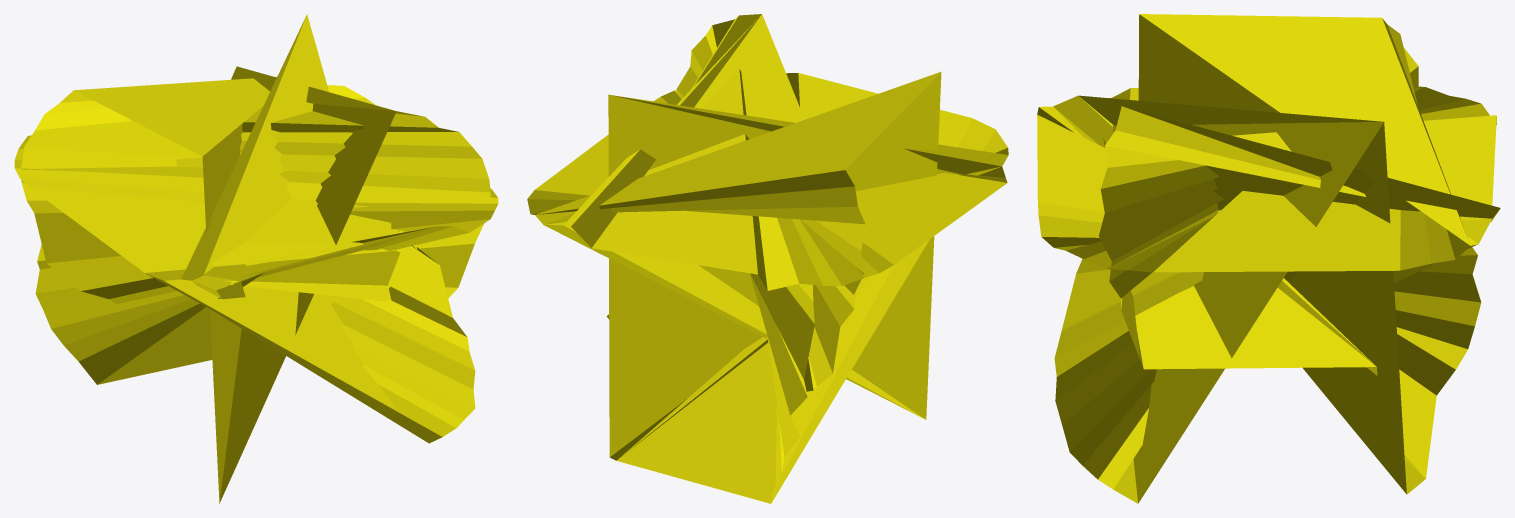
Rendered from Player_6.fbx.
The picture shows the model from 3 angles, left to right: view 1: azimuth 30°, elevation 25°; view 2: azimuth 150°, elevation 25°; view 3: azimuth 270°, elevation 25°; orthographic projection. The views are drawn at different scales.
Visible parts, largest first — view 1: Cylinder; view 2: Cylinder; view 3: Cylinder.
Part boxes in pixels (x1,y1,x2,y2): Cylinder: (14,14,498,503); Cylinder: (527,14,1008,503); Cylinder: (1037,14,1500,503).
Bounding box in the file's own units: 365 × 357 × 387.
